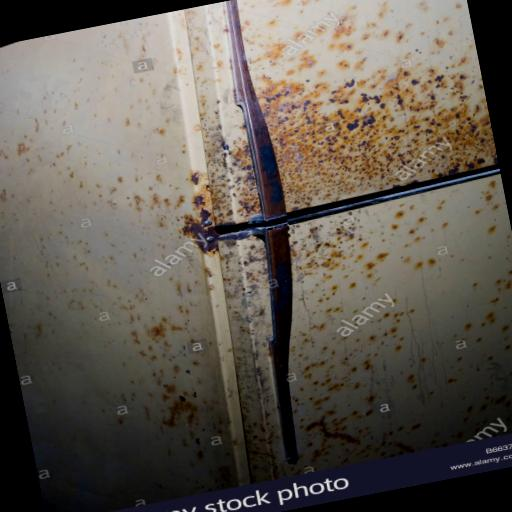segmentation: (258, 68, 494, 210), (228, 164, 260, 221), (184, 209, 218, 253), (164, 396, 197, 426)
